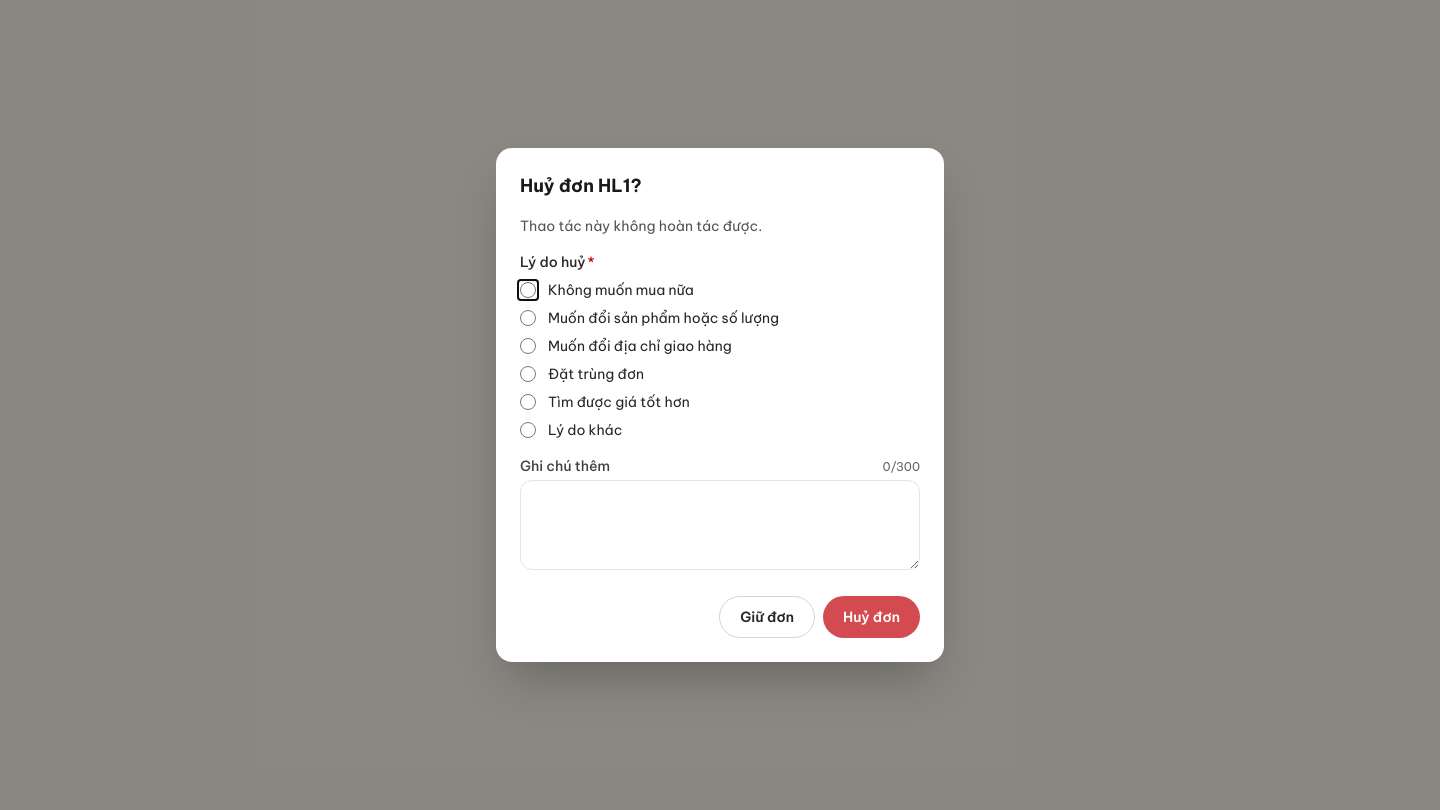
Test: CancelOrderDialog › shows the server error and lets the customer try again
Click the radio button labelled "Tìm được giá tốt hơn".
click(528, 402)  # box [520, 394, 536, 410]
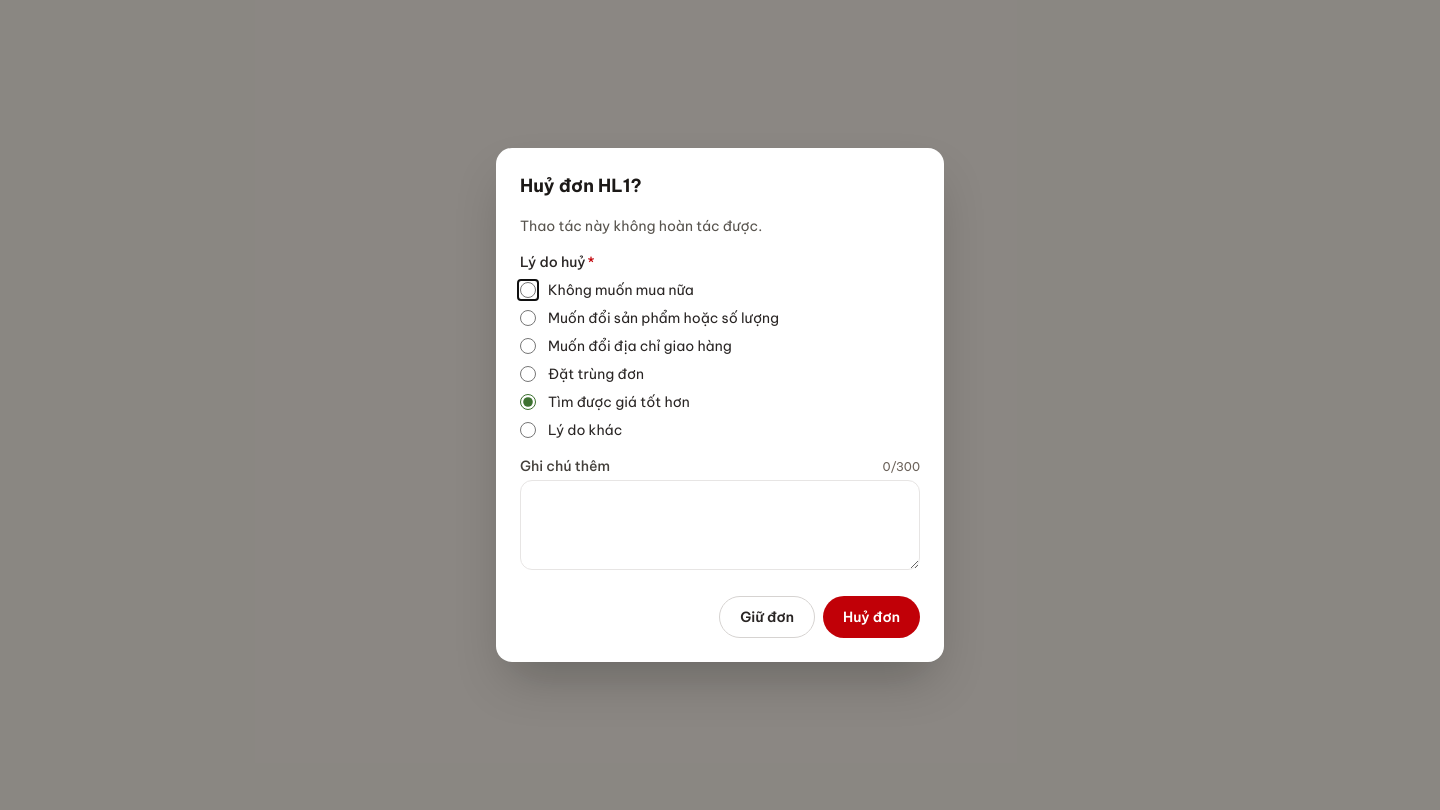
Click the button "Huỷ đơn".
click(872, 617)  # box [823, 596, 920, 638]
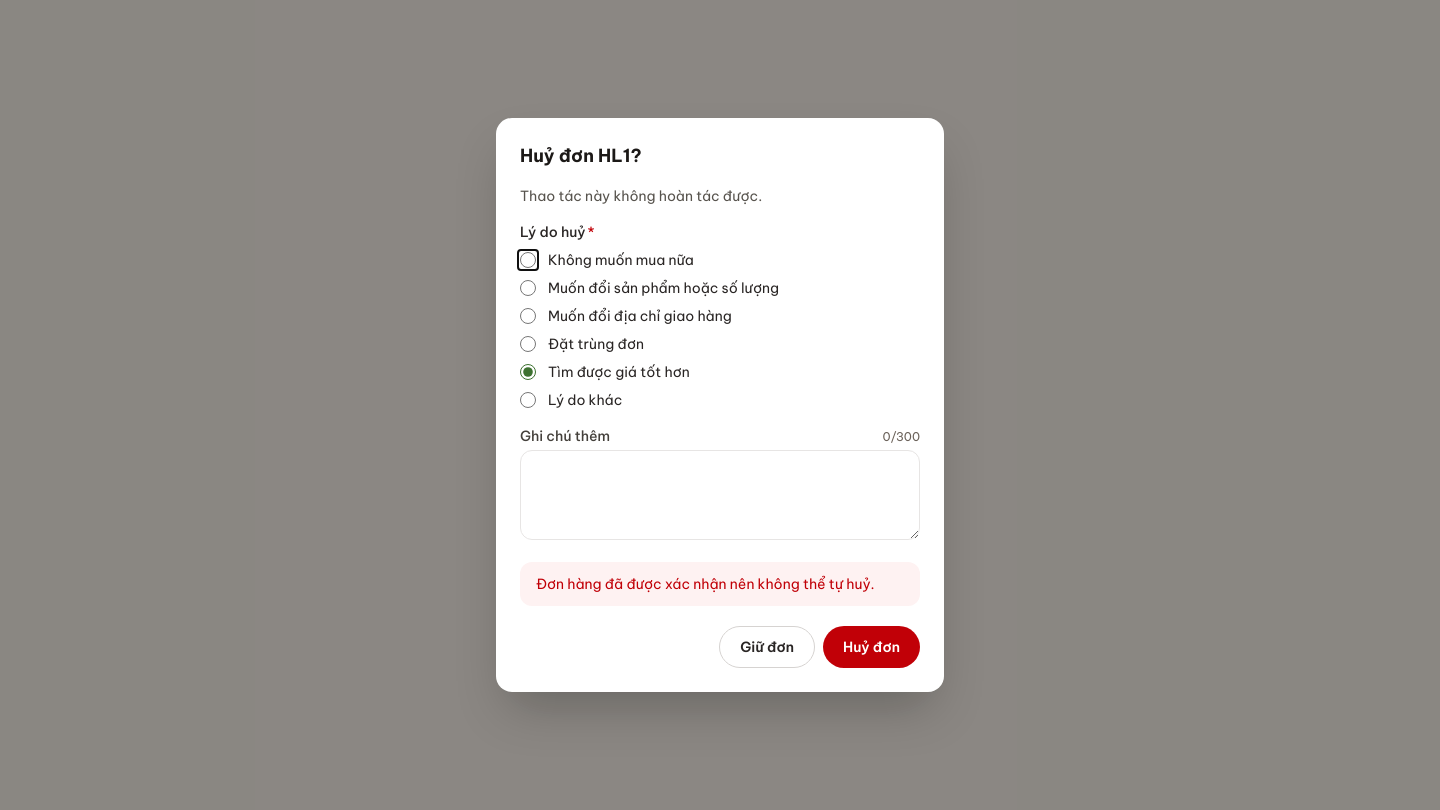
Expected: the button "Huỷ đơn" is enabled, [823, 626, 920, 668]
Expected: the message "Đơn hàng đã được xác nhận nên không thể tự huỷ." is shown, [520, 562, 920, 606]
